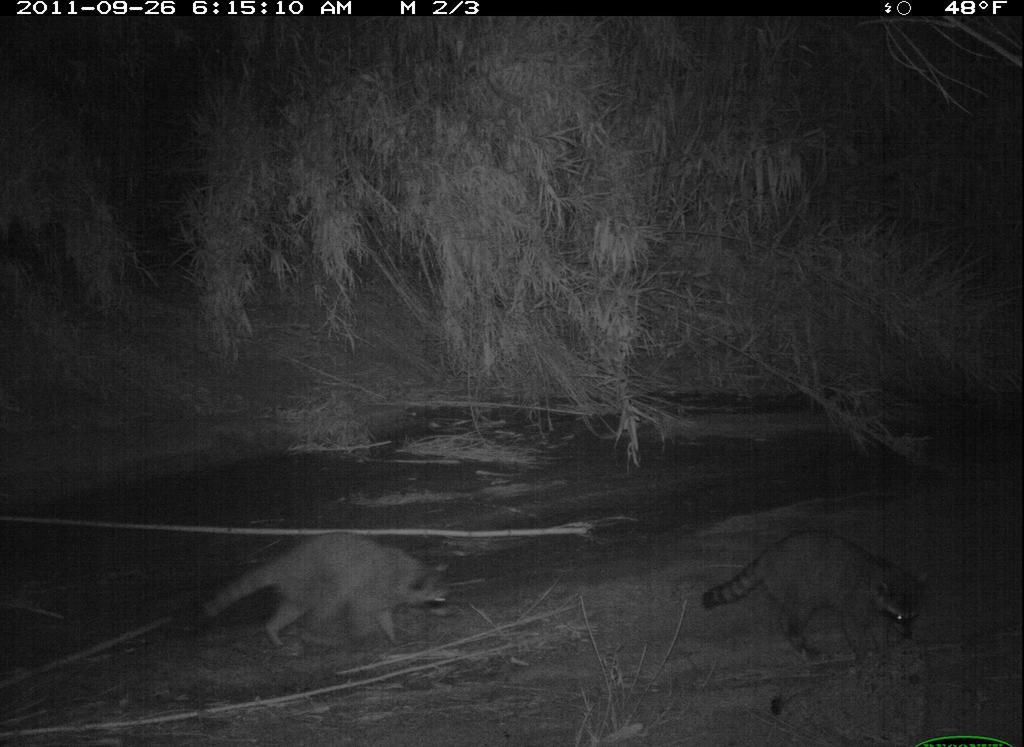raccoon: (198, 520, 473, 665), (697, 518, 936, 670)
